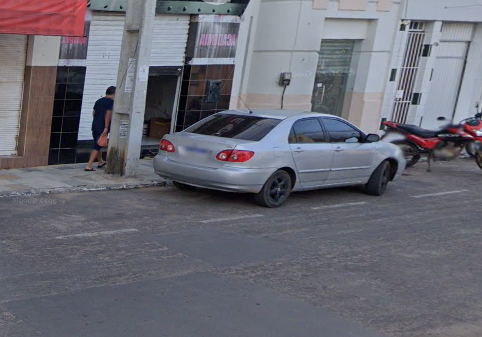car: (152, 93, 408, 216)
